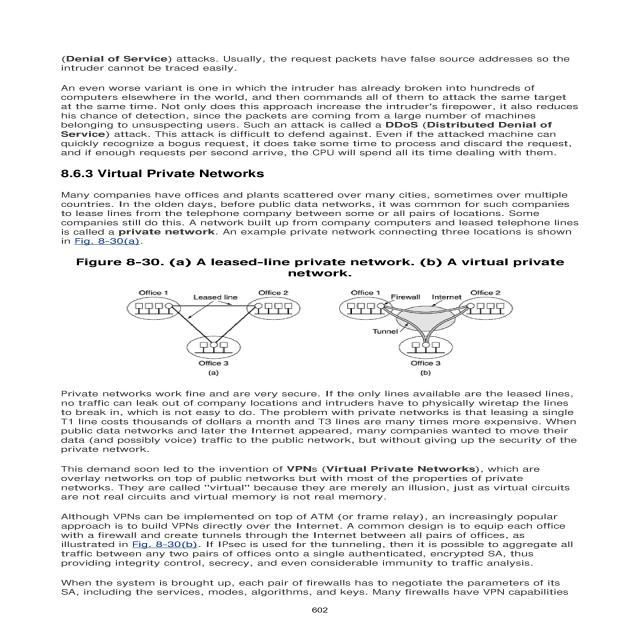diagram: (22, 246, 603, 382)
